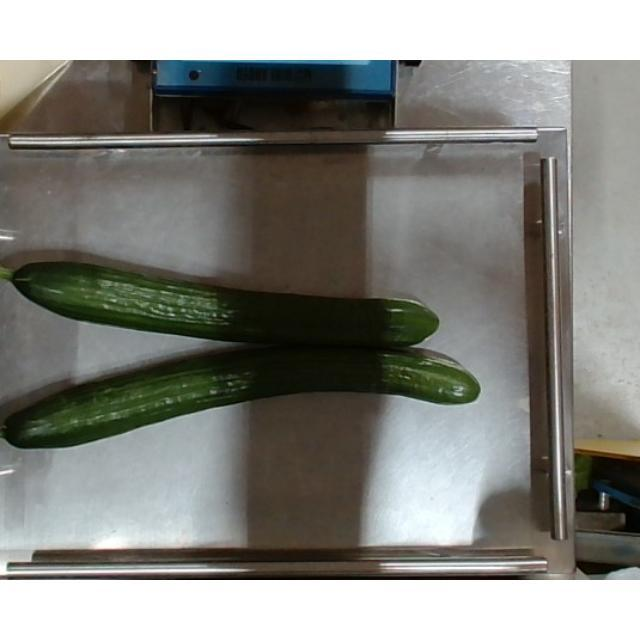cucumber: (1, 344, 482, 450), (1, 260, 442, 344)
